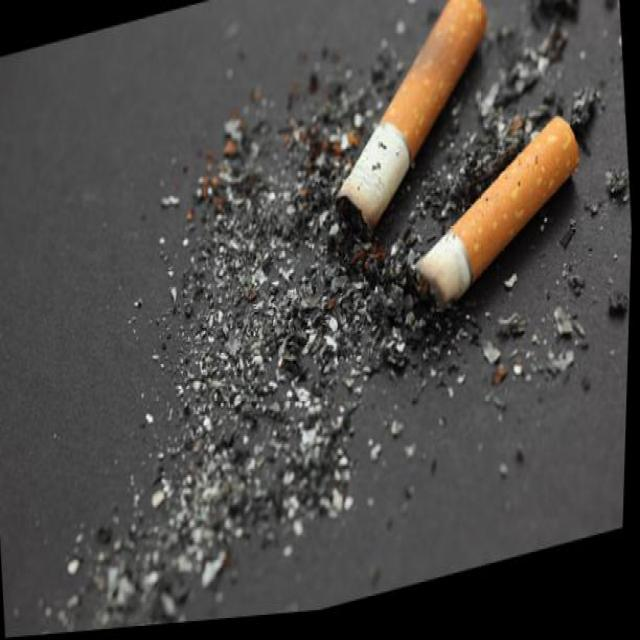cigarette: (315, 0, 510, 257), (400, 107, 602, 335)
